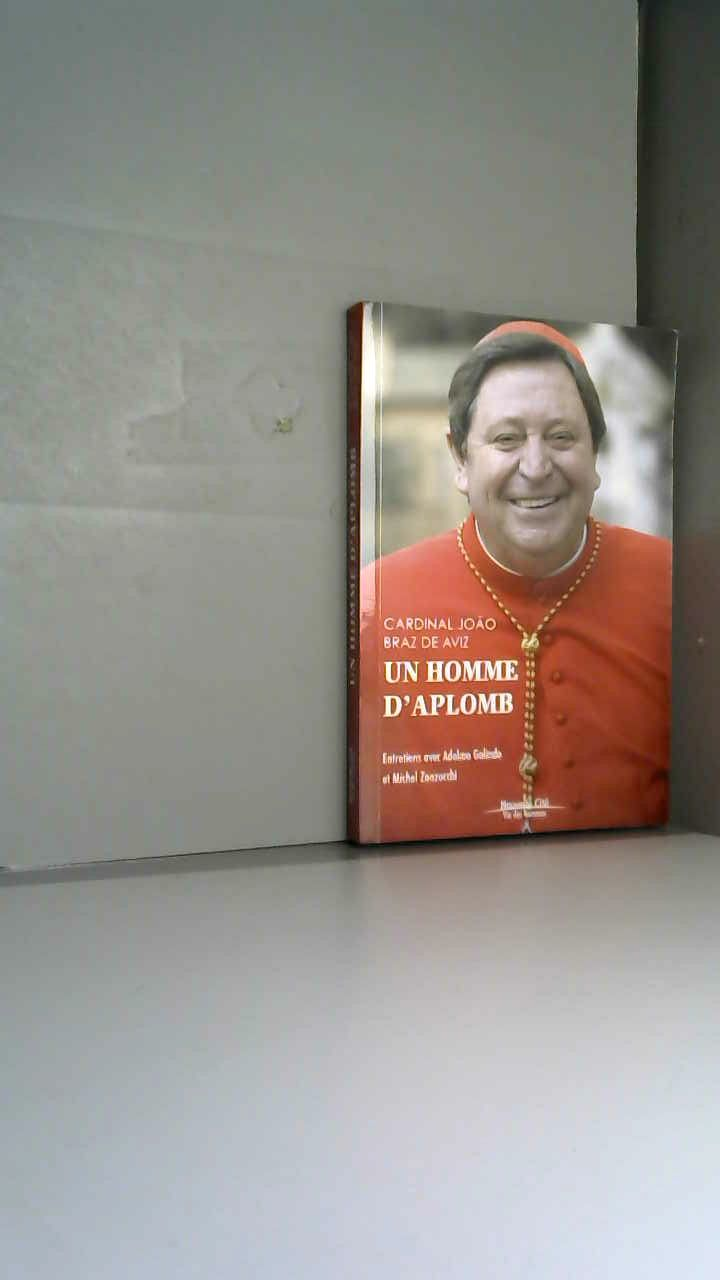book: (310, 280, 716, 911)
